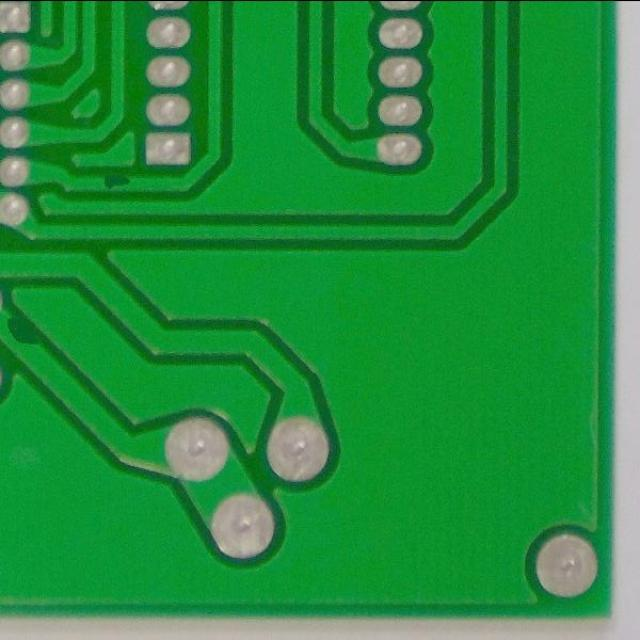MouseBite: (0, 306, 52, 364), (90, 170, 140, 196)
